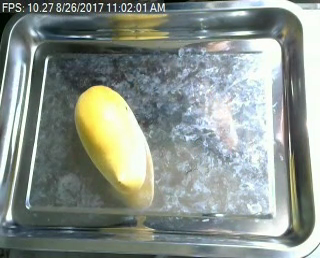Mango: (71, 81, 157, 200)
